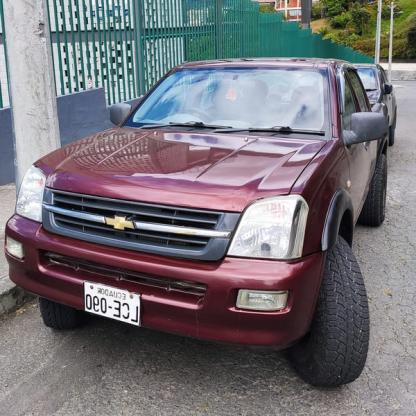Placa: (80, 280, 145, 332)
